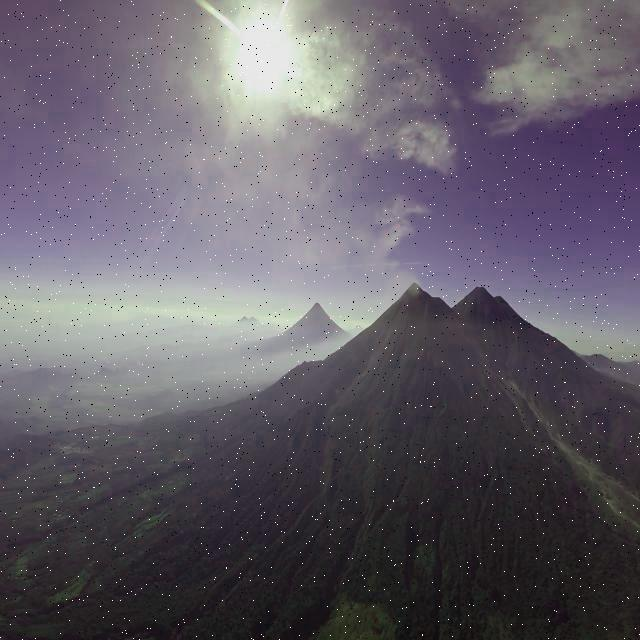Summit: (402, 281, 432, 300)
